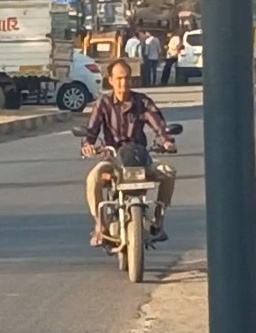BikeWithRider: (71, 57, 186, 286)
NoHelmet: (105, 58, 134, 96)
